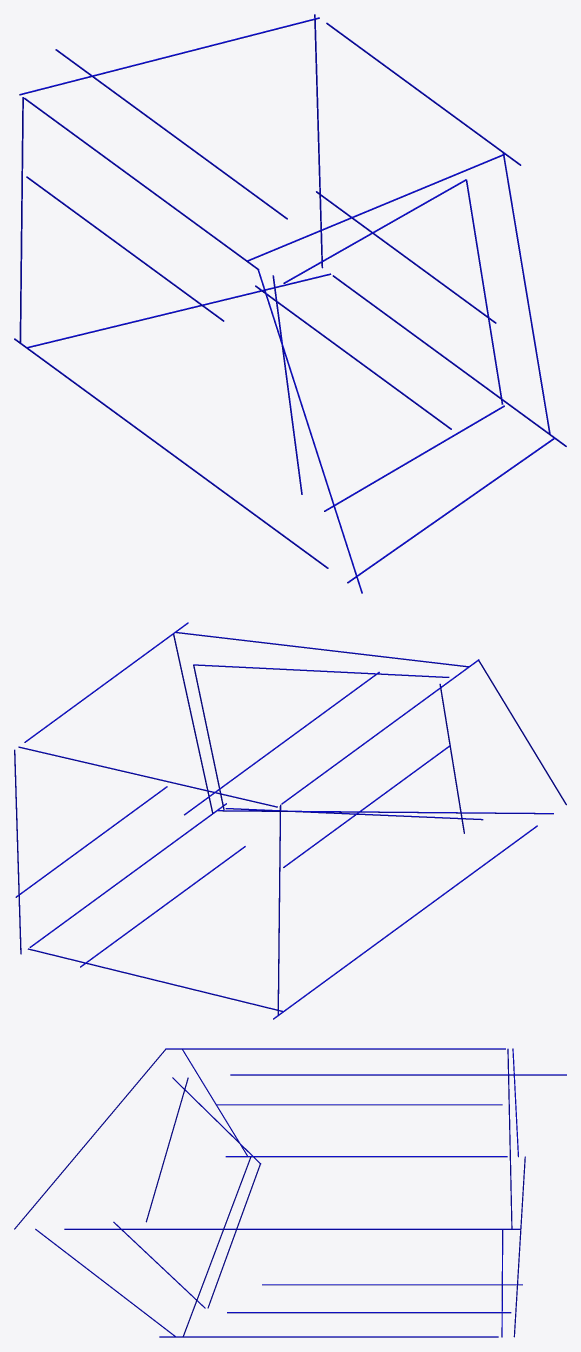
The model's file is corrected_3d_strokes.glb.
3 renders of one model, top to bottom at view 1: azimuth 30°, elevation 25°; view 2: azimuth 150°, elevation 25°; view 3: azimuth 270°, elevation 25°, orthographic. The views are drawn at different scales.
Visible parts, largest first — view 1: world; view 2: world; view 3: world.
Part boxes in pixels (x1,y1,x2,y2): world: [14, 14, 566, 593]; world: [14, 622, 566, 1019]; world: [14, 1048, 566, 1337].
Bounding box in the file's own units: 8.29 × 6.48 × 17.9.
